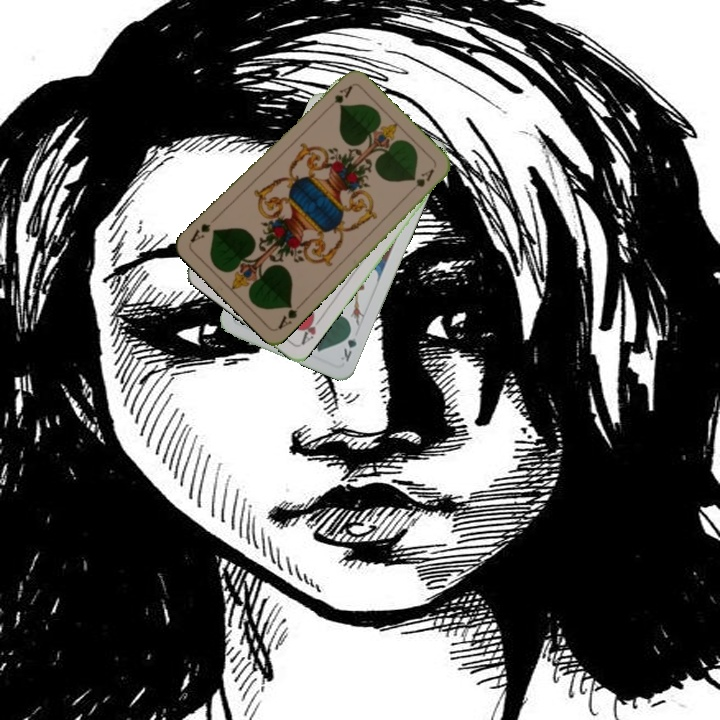GA: (274, 298, 306, 332), (322, 81, 355, 113)
GK: (336, 325, 359, 364)
HA: (297, 310, 325, 348)
